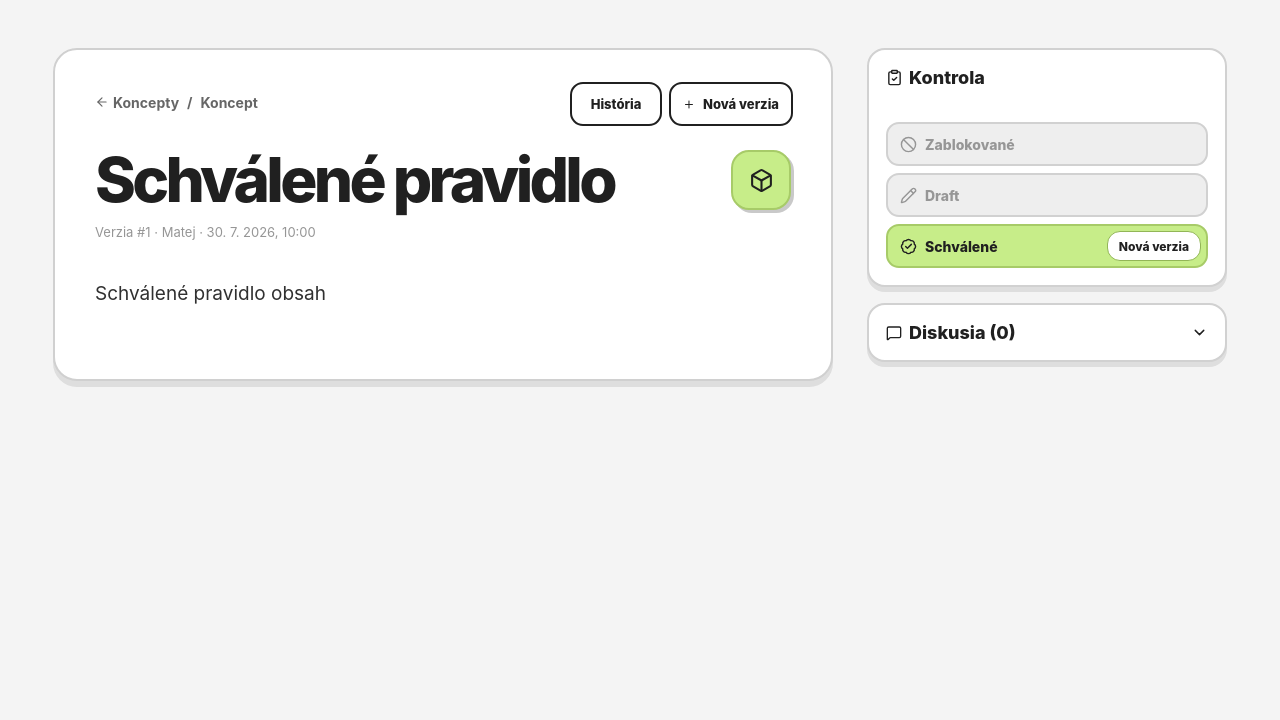
Test: PagePage revision links › offers a new version from both approved-page actions when no draft exists
Expected: the heading "Schválené pravidlo" is shown, x1=95 y1=142 x2=614 y2=217
Expected: the button "Nová verzia" in the row of "Koncepty" is enabled, x1=669 y1=82 x2=793 y2=126
What coordinates should you click on to do the following:
click the button "Nová verzia" below "Draft"
I would click on:
 (1154, 246)
Its box is x1=1107 y1=231 x2=1201 y2=261.
(page scrolled)
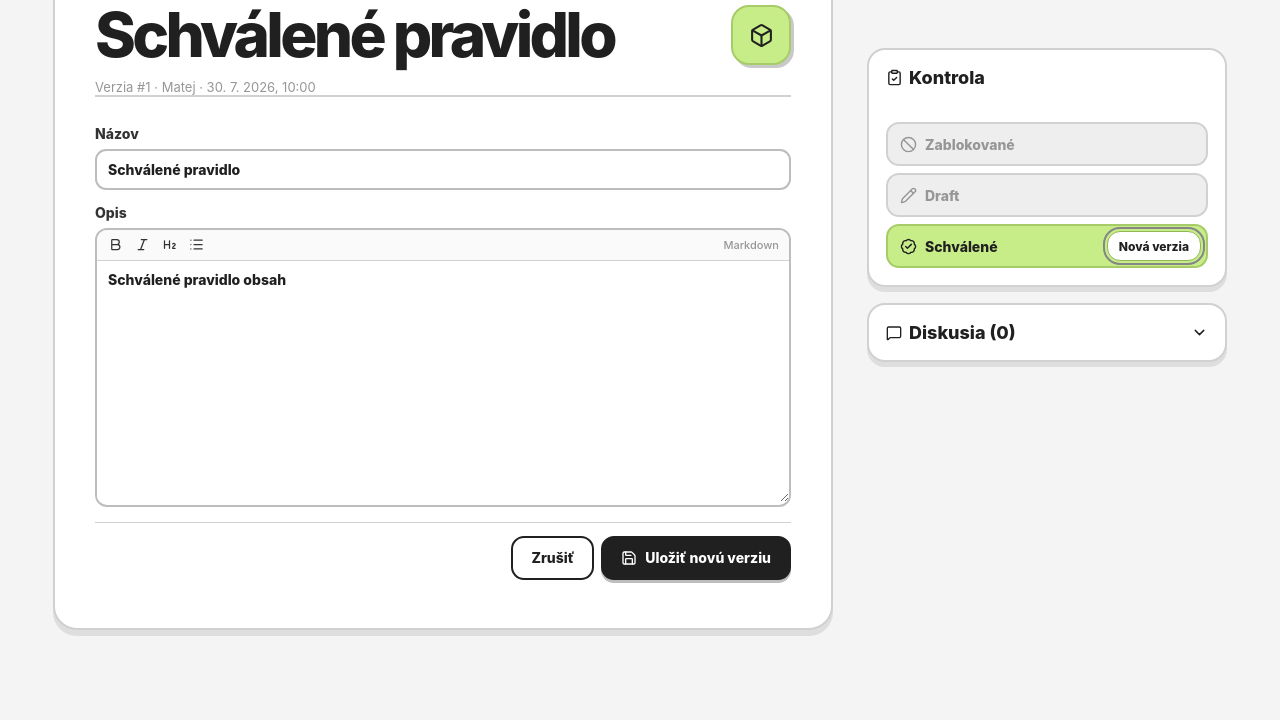
Now the button "Uložiť novú verziu" is shown, box x1=601 y1=536 x2=791 y2=580
